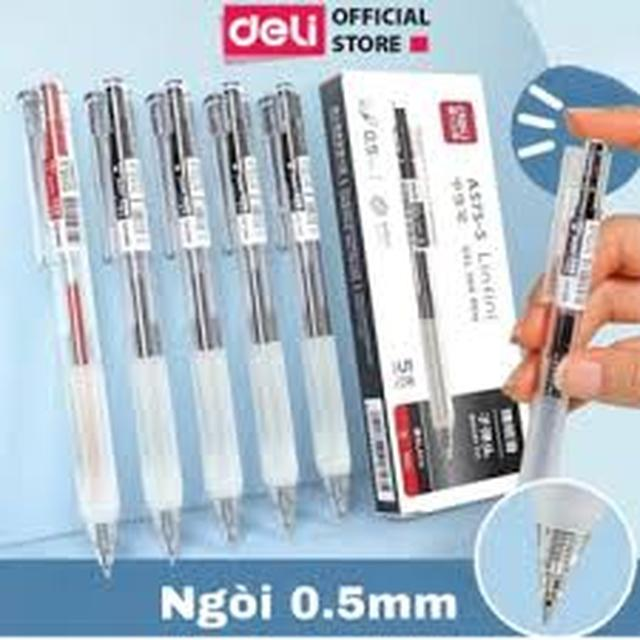box: (316, 41, 536, 502)
pen: (59, 56, 189, 572), (184, 55, 307, 538), (6, 49, 114, 581), (248, 59, 372, 521), (138, 59, 248, 552), (533, 128, 598, 542)
